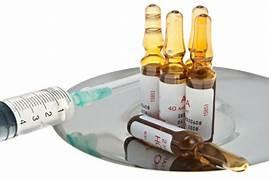Syringe: (123, 111, 252, 173), (184, 7, 220, 140), (160, 8, 188, 126), (137, 5, 164, 112)
